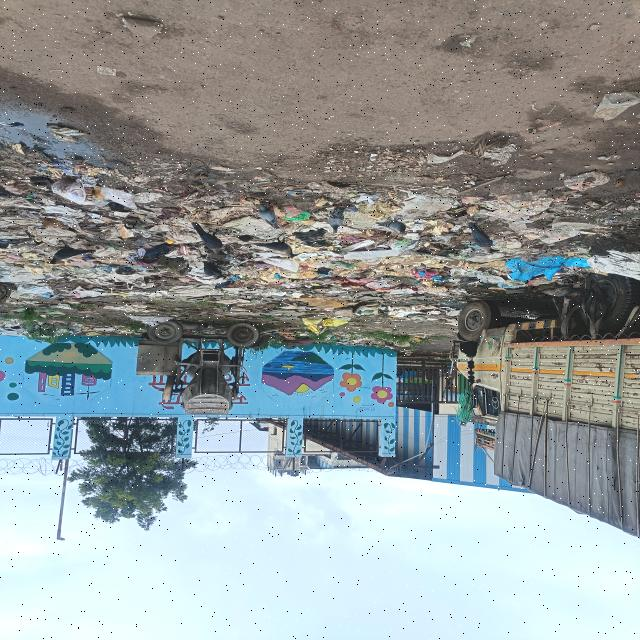garbage: (0, 138, 640, 331), (0, 312, 138, 338), (270, 330, 416, 350)
